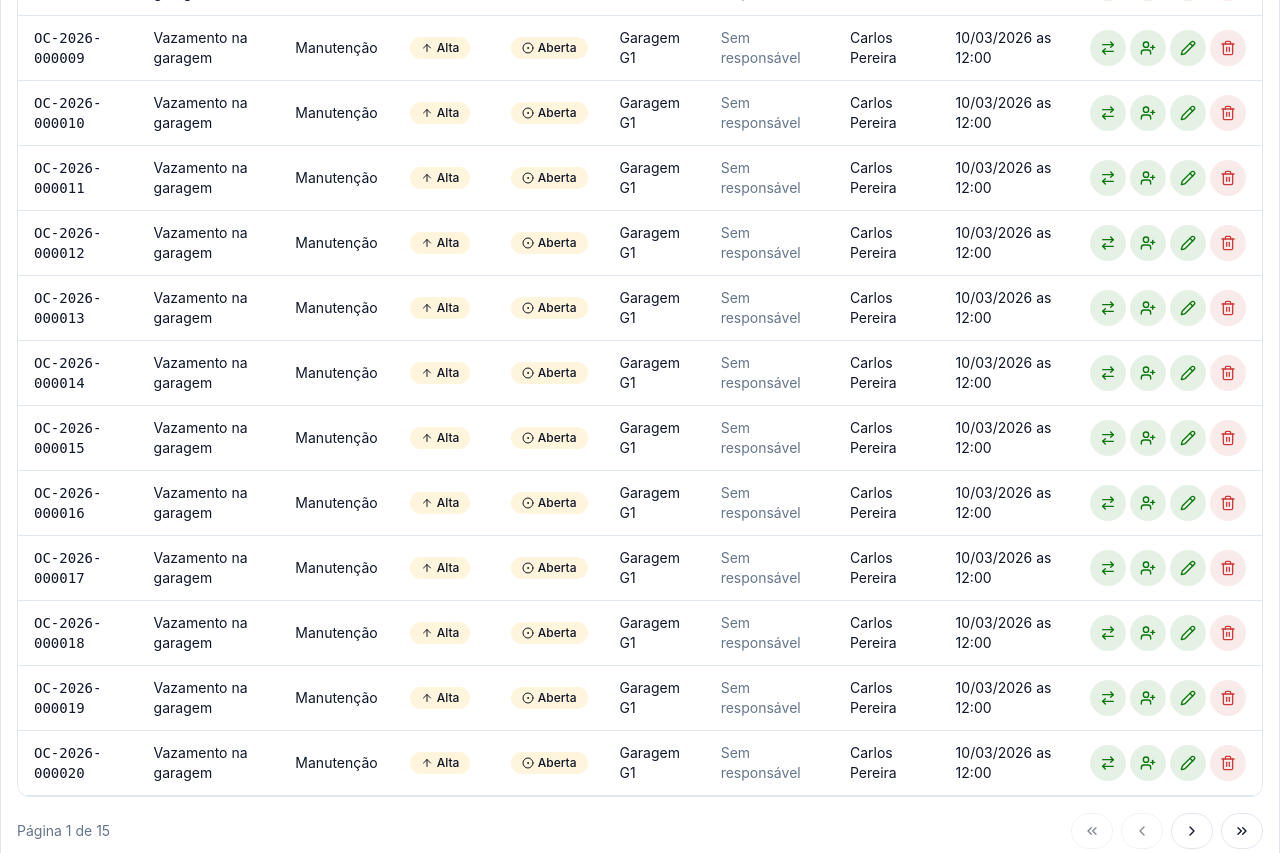
Test case: Listagem de ocorrências › trezentas ocorrências paginam no tamanho pedido
(page scrolled)
Click the button named "Próxima página": (1192, 831) [1171, 813, 1213, 849]
(page scrolled)
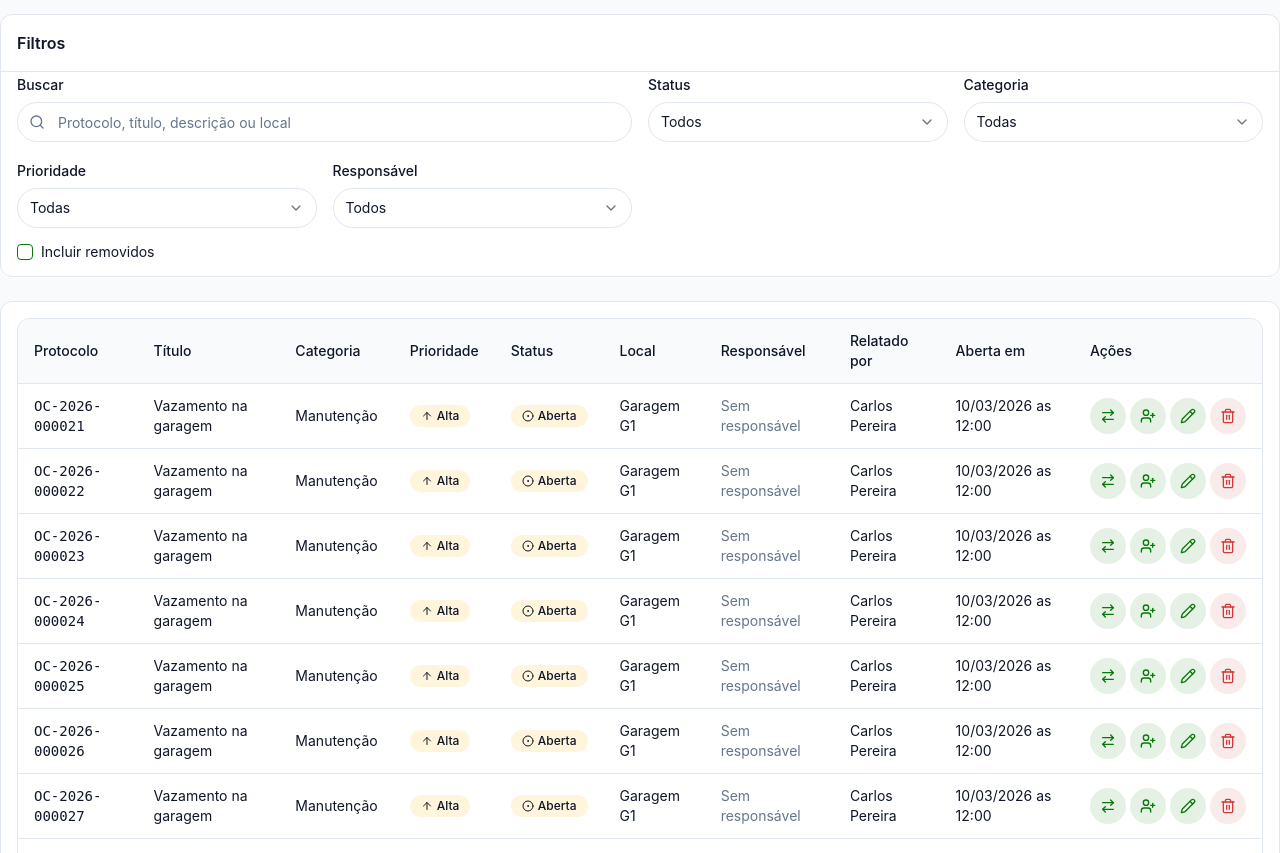
Expected: the text "OC-2026-000021" is shown, [34, 398, 101, 434]
